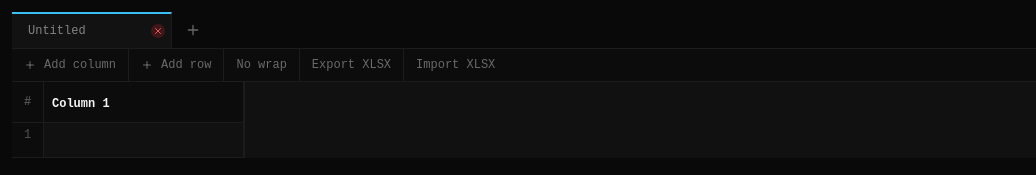
Test case: TableView › renames the table via double click on the tab
Double-click the text "Untitled": {"x": 57, "y": 31} 28,24 -> 86,38
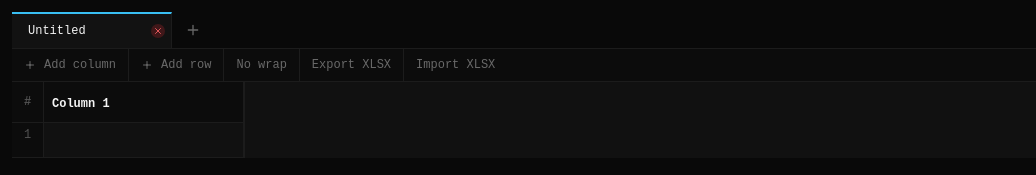
Replace the text in the 1st field showing "Untitled" with "Renamed": {"x": 100, "y": 31} 28,23 -> 171,39
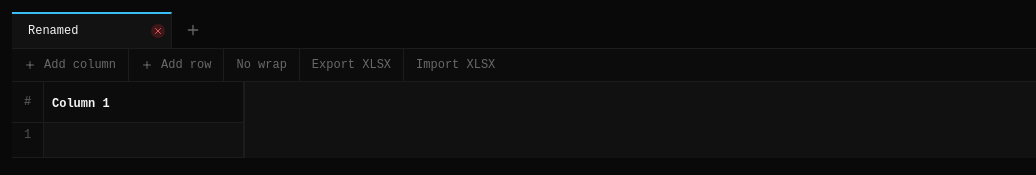
Press Enter in the 1st field showing "Untitled", box 28,23 -> 171,39
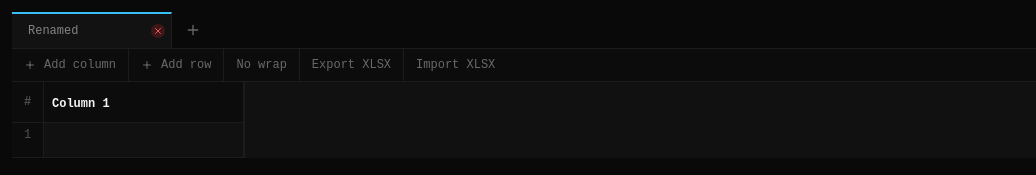
Now the text "Renamed" is shown, box 28,24 -> 78,38
